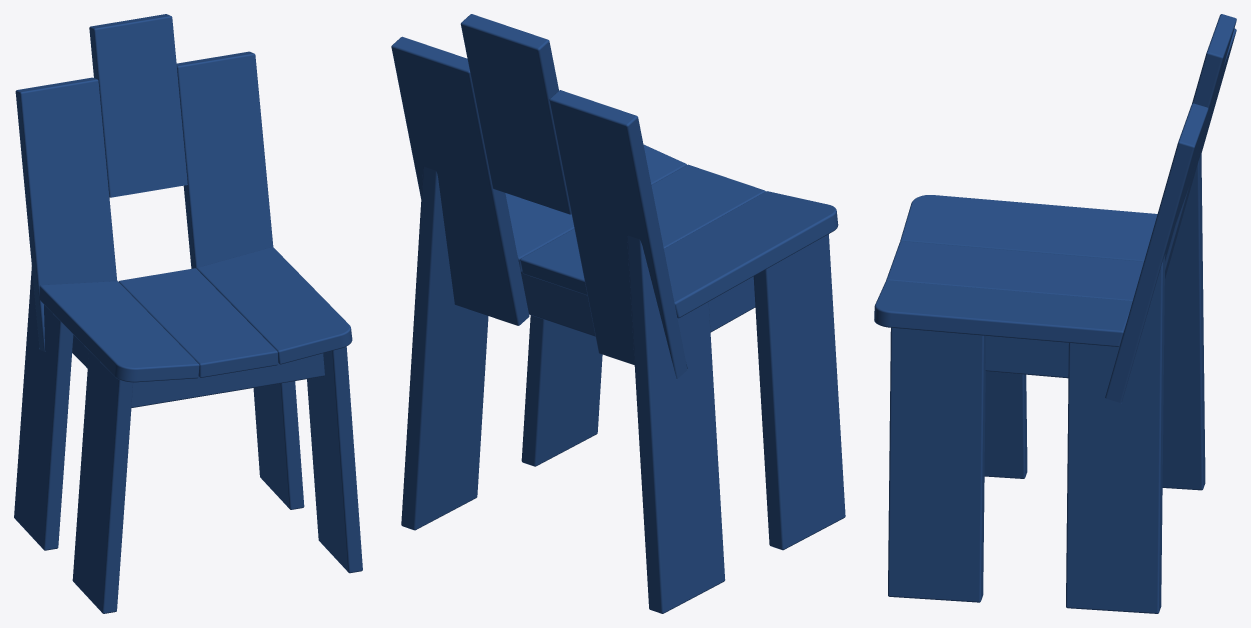
File: bluedlaq.glb
The picture shows the model from 3 angles, left to right: view 1: azimuth 30°, elevation 25°; view 2: azimuth 150°, elevation 25°; view 3: azimuth 270°, elevation 25°; orthographic projection. The views are drawn at different scales.
Parts seen in each view (by area): view 1: Brep.090, Brep.092, Brep.091, Brep.094, Brep.093, Brep.136, Brep.089, Brep.100, Brep.088, Brep.095, Brep.096; view 2: Brep.093, Brep.094, Brep.095, Brep.090, Brep.092, Brep.091, Brep.089, Brep.088, Brep.100, Brep.136, Brep.099, Brep.098; view 3: Brep.095, Brep.088, Brep.089, Brep.136, Brep.093, Brep.100, Brep.092, Brep.094, Brep.097, Brep.091, Brep.090.
Boxes of the visible parts, box(x1,y1,x2,y2) form: Brep.090: box(15, 77, 117, 351); Brep.092: box(176, 51, 273, 268); Brep.091: box(89, 14, 187, 197); Brep.094: box(72, 351, 133, 613); Brep.093: box(14, 266, 73, 550); Brep.136: box(197, 247, 352, 364); Brep.089: box(39, 281, 199, 382); Brep.100: box(118, 268, 277, 377); Brep.088: box(307, 346, 362, 573); Brep.095: box(253, 381, 304, 509); Brep.096: box(131, 353, 324, 407); Brep.093: box(627, 235, 725, 613); Brep.094: box(753, 234, 845, 550); Brep.095: box(401, 166, 488, 530); Brep.090: box(549, 90, 687, 378); Brep.092: box(391, 36, 529, 325); Brep.091: box(460, 14, 571, 214); Brep.089: box(664, 191, 838, 318); Brep.088: box(521, 315, 602, 466); Brep.100: box(520, 164, 765, 295); Brep.136: box(505, 144, 686, 272); Brep.099: box(521, 271, 595, 336); Brep.098: box(708, 276, 755, 332); Brep.095: box(1066, 254, 1165, 613); Brep.088: box(888, 328, 985, 602); Brep.089: box(900, 195, 1157, 261); Brep.136: box(874, 280, 1132, 346); Brep.093: box(1162, 153, 1205, 490); Brep.100: box(886, 241, 1143, 300); Brep.092: box(1105, 103, 1208, 402); Brep.094: box(984, 371, 1027, 478); Brep.097: box(985, 336, 1068, 378); Brep.091: box(1176, 14, 1236, 221); Brep.090: box(1165, 28, 1236, 278).
Bounding box in the file's own units: 0.5385 × 0.8791 × 0.5575.
